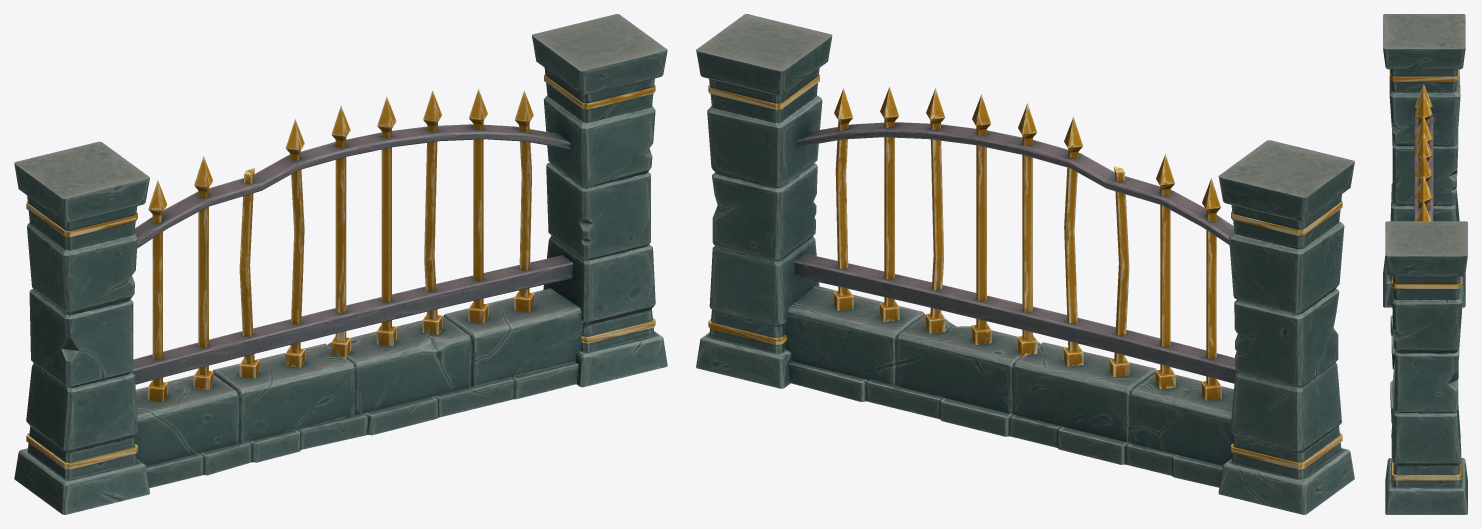
Rendered from graveyard_fence.glb.
3 renders of one model, left to right at view 1: azimuth 30°, elevation 25°; view 2: azimuth 150°, elevation 25°; view 3: azimuth 270°, elevation 25°, orthographic. The views are drawn at different scales.
Parts seen in each view (by area): view 1: Pilars_low, Stone_low, PilarsD1_low, Spikes_low, Bars_low, Flor_low, PilarsD2_low; view 2: Pilars_low, Stone_low, PilarsD1_low, Spikes_low, Bars_low, Flor_low, PilarsD2_low; view 3: Pilars_low, PilarsD1_low, Spikes_low, PilarsD2_low, Bars_low, Flor_low.
Boxes of the visible parts, box(x1,y1,x2,y2) form: Pilars_low: box(26, 68, 655, 479); Stone_low: box(134, 288, 583, 465); PilarsD1_low: box(14, 14, 667, 514); Spikes_low: box(147, 89, 534, 401); Bars_low: box(131, 124, 573, 384); Flor_low: box(146, 362, 578, 488); PilarsD2_low: box(26, 74, 655, 469); Pilars_low: box(707, 68, 1344, 479); Stone_low: box(784, 285, 1234, 465); PilarsD1_low: box(696, 14, 1354, 514); Spikes_low: box(833, 87, 1221, 400); Bars_low: box(794, 122, 1237, 383); Flor_low: box(788, 361, 1222, 487); PilarsD2_low: box(708, 74, 1342, 469); Pilars_low: box(1389, 69, 1462, 487); PilarsD1_low: box(1383, 14, 1467, 514); Spikes_low: box(1414, 84, 1432, 221); PilarsD2_low: box(1389, 69, 1461, 480); Bars_low: box(1414, 115, 1433, 221); Flor_low: box(1390, 315, 1394, 456).
Size of the model in its own units: 2 by 1 by 0.2964.
1 material, 1 textured.
